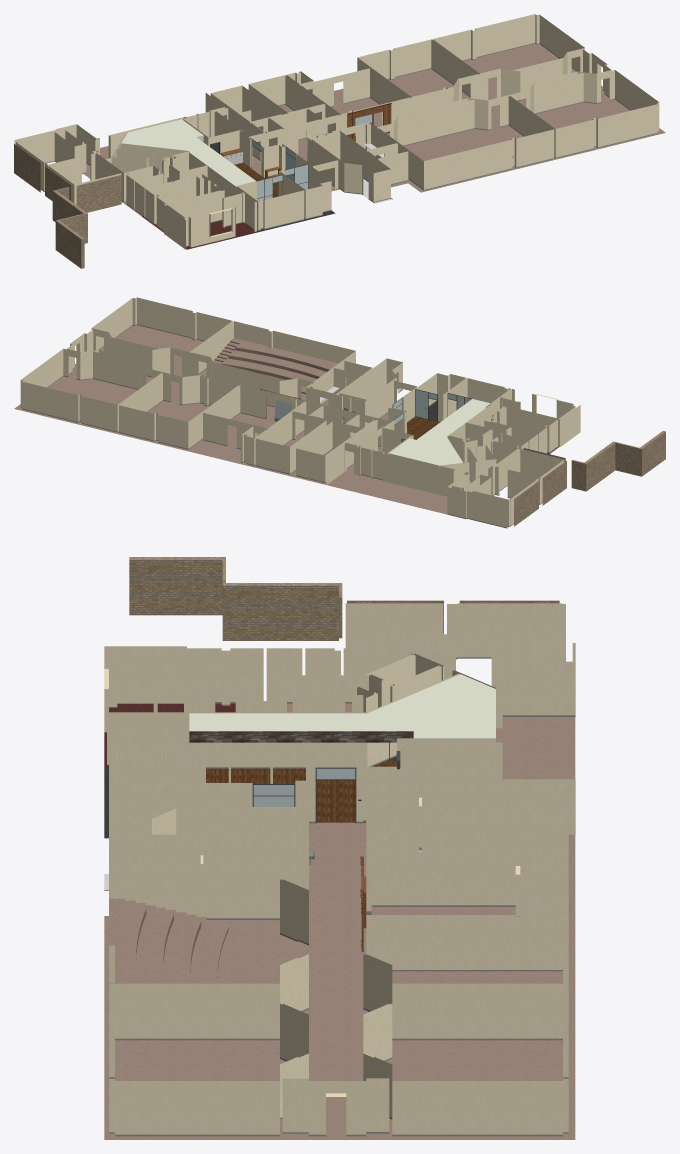
The model's file is COBA 1st Floor.fbx.
3 views of the same model, one above another, from view 1: azimuth 30°, elevation 25°; view 2: azimuth 150°, elevation 25°; view 3: azimuth 270°, elevation 25° (orthographic). The views are drawn at different scales.
Visible parts, largest first — view 1: 0_curve_.036, 0_curve_.026, o_1_floor_ground, 0_curve_.041, 0_curve_.039, 0_curve_.012, 0_curve_.037, 0_curve_.038, 0_curve_.043, o_105_soffit, 0_curve_.015, 0_curve_.046 (+8 smaller); view 2: 0_curve_.036, 0_curve_.026, o_1_floor_ground, 0_curve_.012, 0_curve_.037, 0_curve_.038, 0_curve_.039, 0_curve_.041, o_115_test_floor, 0_curve_.015, 0_curve_.046, o_105_soffit (+7 smaller); view 3: o_1_floor_ground, 0_curve_.036, 0_curve_.026, 0_curve_.037, 0_curve_.039, 0_curve_.015, o_105_soffit, 0_curve_.038, 0_curve_.041, 0_curve_.012, o_115_test_floor, 0_curve_.043 (+5 smaller).
Boxes of the visible parts, x1=… form: 0_curve_.036: x1=121, y1=49, x2=611, y2=230; 0_curve_.026: x1=14, y1=124, x2=235, y2=249; o_1_floor_ground: x1=84, y1=43, x2=665, y2=249; 0_curve_.041: x1=378, y1=96, x2=554, y2=190; 0_curve_.039: x1=510, y1=70, x2=659, y2=158; 0_curve_.012: x1=108, y1=93, x2=262, y2=231; 0_curve_.037: x1=432, y1=14, x2=584, y2=97; 0_curve_.038: x1=357, y1=39, x2=478, y2=97; 0_curve_.043: x1=311, y1=132, x2=390, y2=202; o_105_soffit: x1=121, y1=119, x2=255, y2=186; 0_curve_.015: x1=52, y1=187, x2=87, y2=268; 0_curve_.046: x1=248, y1=75, x2=339, y2=133; 0_curve_.036: x1=67, y1=329, x2=510, y2=467; 0_curve_.026: x1=447, y1=394, x2=580, y2=528; o_1_floor_ground: x1=14, y1=325, x2=558, y2=514; 0_curve_.012: x1=326, y1=389, x2=520, y2=496; 0_curve_.037: x1=20, y1=348, x2=161, y2=432; 0_curve_.038: x1=119, y1=373, x2=238, y2=449; 0_curve_.039: x1=91, y1=297, x2=232, y2=374; 0_curve_.041: x1=191, y1=321, x2=355, y2=398; o_115_test_floor: x1=213, y1=338, x2=338, y2=394; 0_curve_.015: x1=571, y1=431, x2=665, y2=491; 0_curve_.046: x1=255, y1=401, x2=326, y2=474; o_105_soffit: x1=389, y1=399, x2=490, y2=465; o_1_floor_ground: x1=104, y1=703, x2=575, y2=1139; 0_curve_.036: x1=109, y1=713, x2=568, y2=1136; 0_curve_.026: x1=104, y1=603, x2=575, y2=732; 0_curve_.037: x1=374, y1=985, x2=568, y2=1136; 0_curve_.039: x1=109, y1=985, x2=298, y2=1136; 0_curve_.015: x1=129, y1=557, x2=342, y2=640; o_105_soffit: x1=189, y1=674, x2=495, y2=742; 0_curve_.038: x1=366, y1=916, x2=568, y2=1004; 0_curve_.041: x1=109, y1=864, x2=298, y2=1004; 0_curve_.012: x1=107, y1=670, x2=575, y2=834; o_115_test_floor: x1=109, y1=898, x2=228, y2=983; 0_curve_.043: x1=109, y1=808, x2=298, y2=864.
Size of the model in its own units: 5612 by 274 by 2119.
